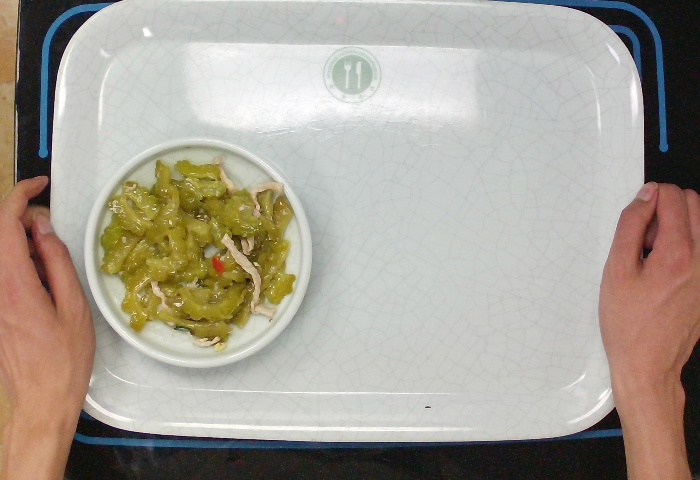JYsf-Xiao_Yuan_Pan: (81, 135, 316, 368)
